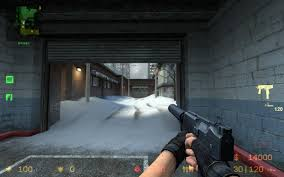gun: (166, 101, 236, 171)
